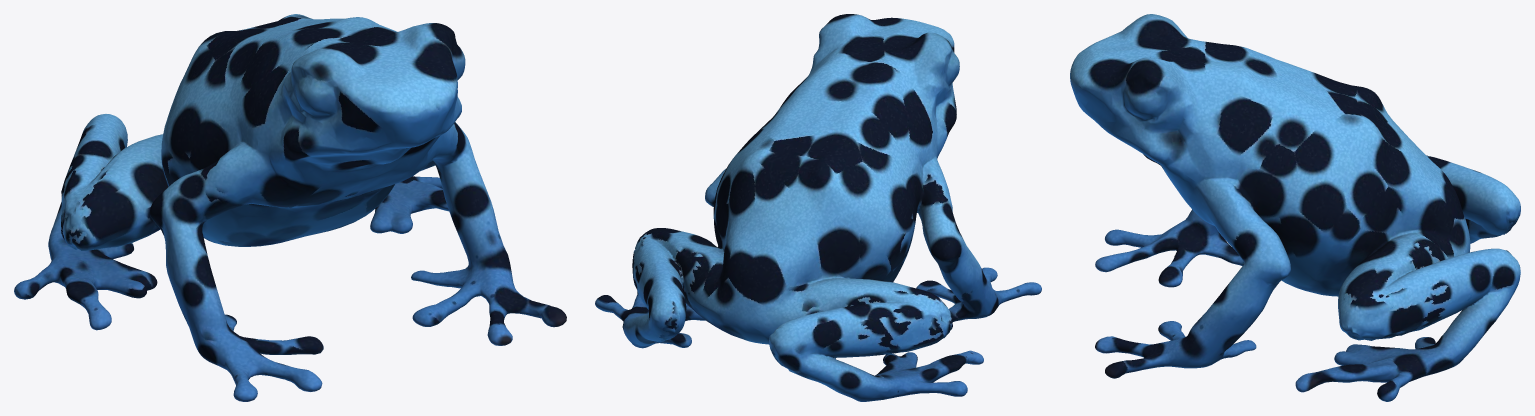
File: dartfrog-sky_spotted.glb
3 renders of one model, left to right at view 1: azimuth 30°, elevation 25°; view 2: azimuth 150°, elevation 25°; view 3: azimuth 270°, elevation 25°, orthographic. The views are drawn at different scales.
Visible parts, largest first — view 1: dartfrog:sky_spotted; view 2: dartfrog:sky_spotted; view 3: dartfrog:sky_spotted.
Part boxes in pixels (x1,y1,x2,y2): dartfrog:sky_spotted: (14, 14, 566, 401); dartfrog:sky_spotted: (595, 14, 1041, 401); dartfrog:sky_spotted: (1070, 14, 1520, 401).
Bounding box in the file's own units: 0.0432 × 0.028 × 0.0421.
Materials: 1 (1 with a texture image).
